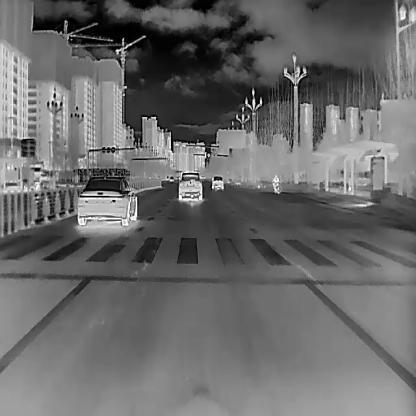car: (76, 175, 138, 226), (176, 172, 203, 201), (271, 173, 281, 193), (211, 174, 223, 189), (169, 175, 174, 182)
